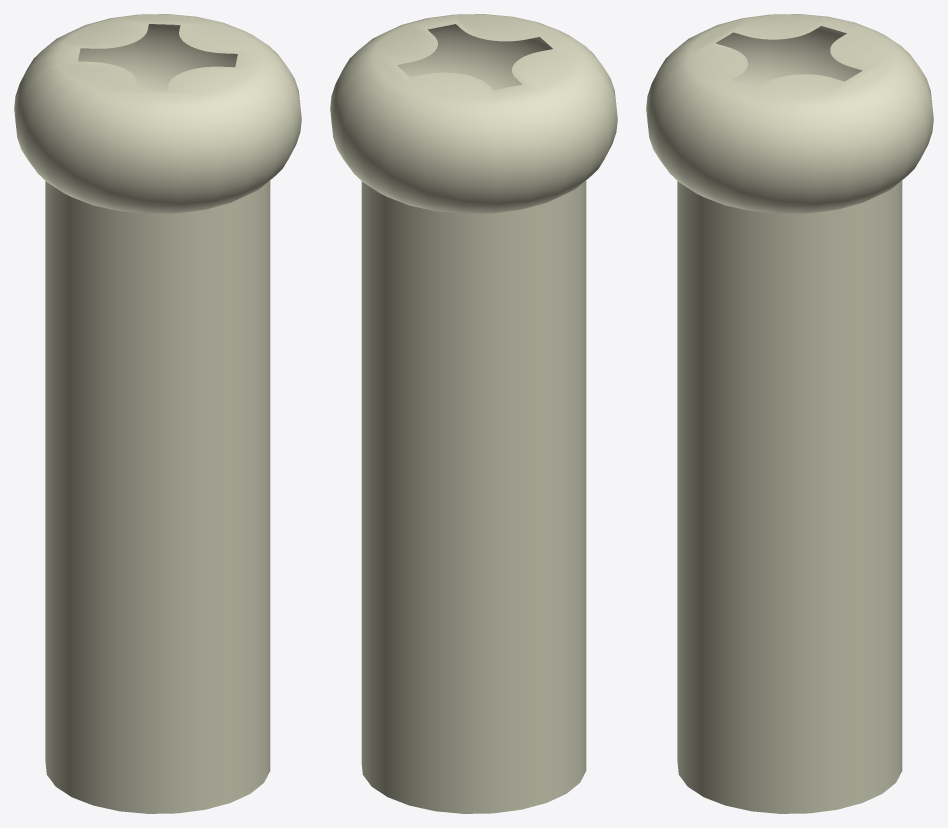
The model's file is original-106.obj.
3 renders of one model, left to right at view 1: azimuth 30°, elevation 25°; view 2: azimuth 150°, elevation 25°; view 3: azimuth 270°, elevation 25°, orthographic.
Visible parts, largest first — view 1: #ID264; view 2: #ID264; view 3: #ID264.
Boxes of the visible parts, left/top/right/bottom form: #ID264: left=14, top=14, right=301, bottom=813; #ID264: left=330, top=14, right=617, bottom=813; #ID264: left=646, top=14, right=933, bottom=813.
Size of the model in its own units: 0.0474 by 0.1288 by 0.0474.
